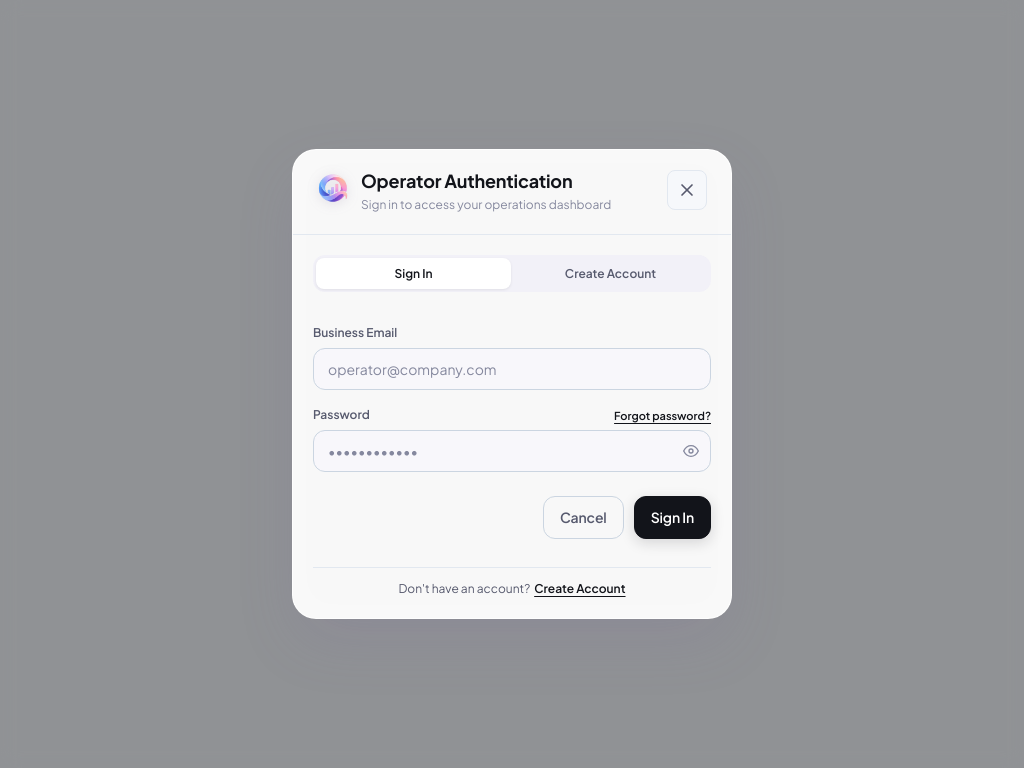
Test: SignInModal Component › renders form inputs and handles empty validation
The width and height of the screenshot is (1024, 768).
Expected: the heading "Operator Authentication" is shown, top-left (361, 169), bottom-right (572, 192)
Expected: the field labelled "Business Email" is shown, top-left (313, 348), bottom-right (711, 390)
Step 1. Click the button "Sign In" → (672, 517), box top-left (634, 496), bottom-right (711, 539)
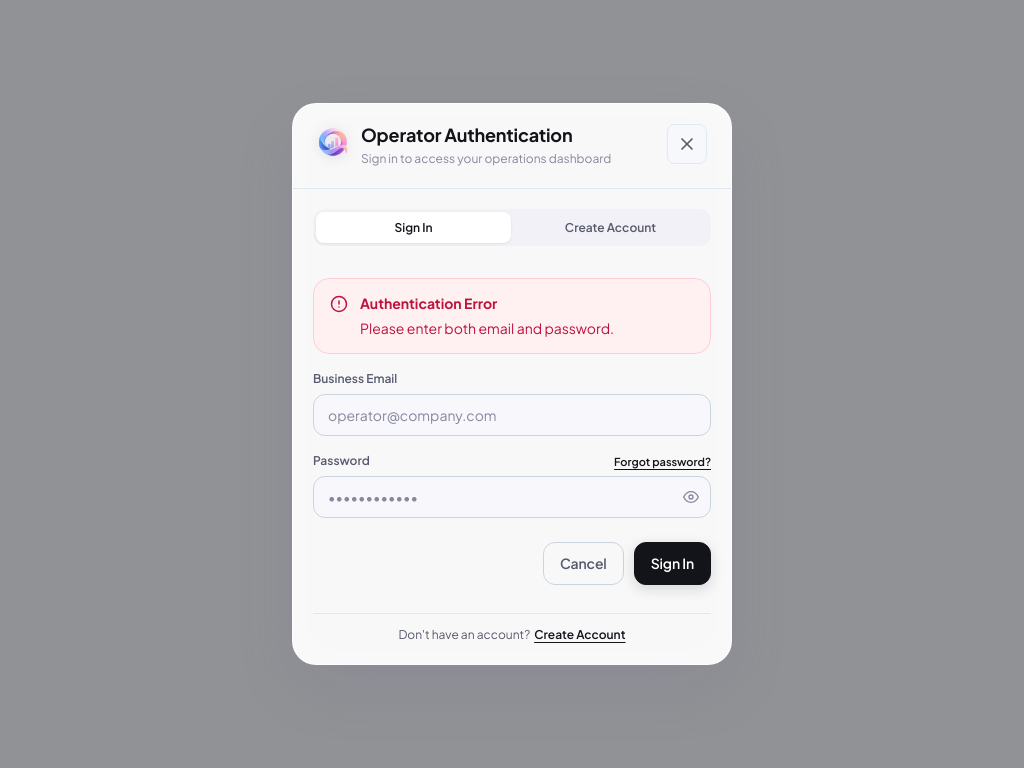
Now the text "Please enter both email and password." is shown, box top-left (360, 318), bottom-right (614, 339)
